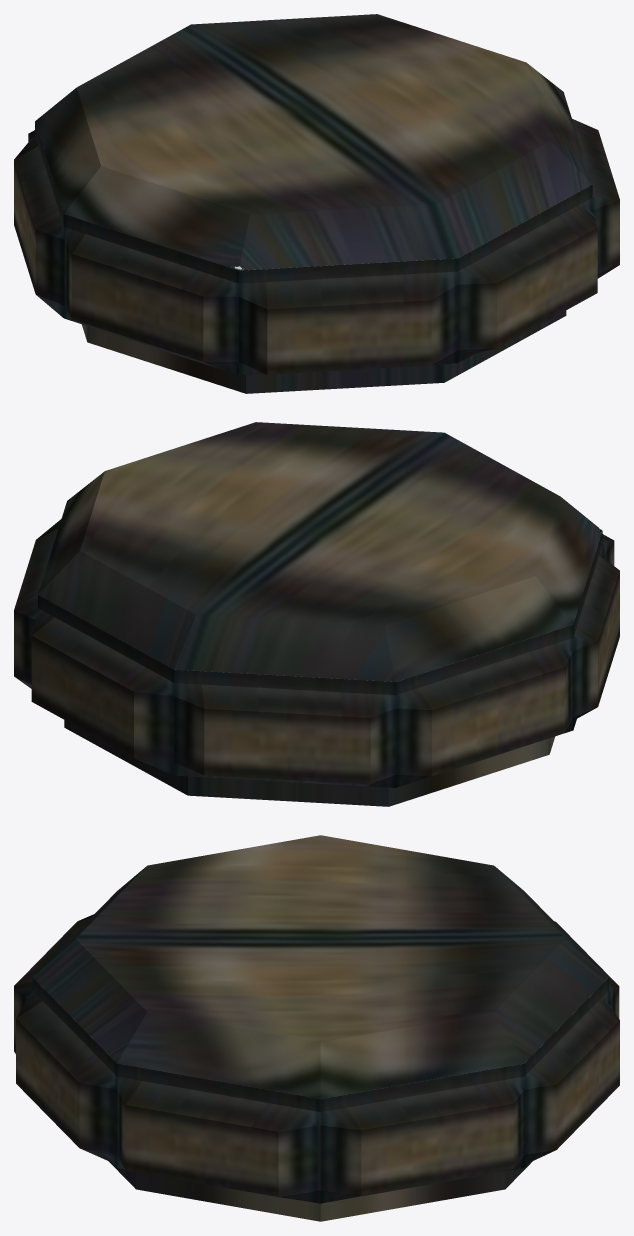
File: cylinder_lamp.fbx
The picture shows the model from 3 angles, top to bottom: view 1: azimuth 30°, elevation 25°; view 2: azimuth 150°, elevation 25°; view 3: azimuth 270°, elevation 25°; orthographic projection.
Visible parts, largest first — view 1: Cylinder; view 2: Cylinder; view 3: Cylinder.
Boxes of the visible parts, bbox=[...] form: Cylinder: bbox=[14, 14, 619, 393]; Cylinder: bbox=[14, 422, 619, 806]; Cylinder: bbox=[14, 835, 619, 1221].
Bounding box in the file's own units: 105 × 39.06 × 105.
Materials: 2 (2 with a texture image).
